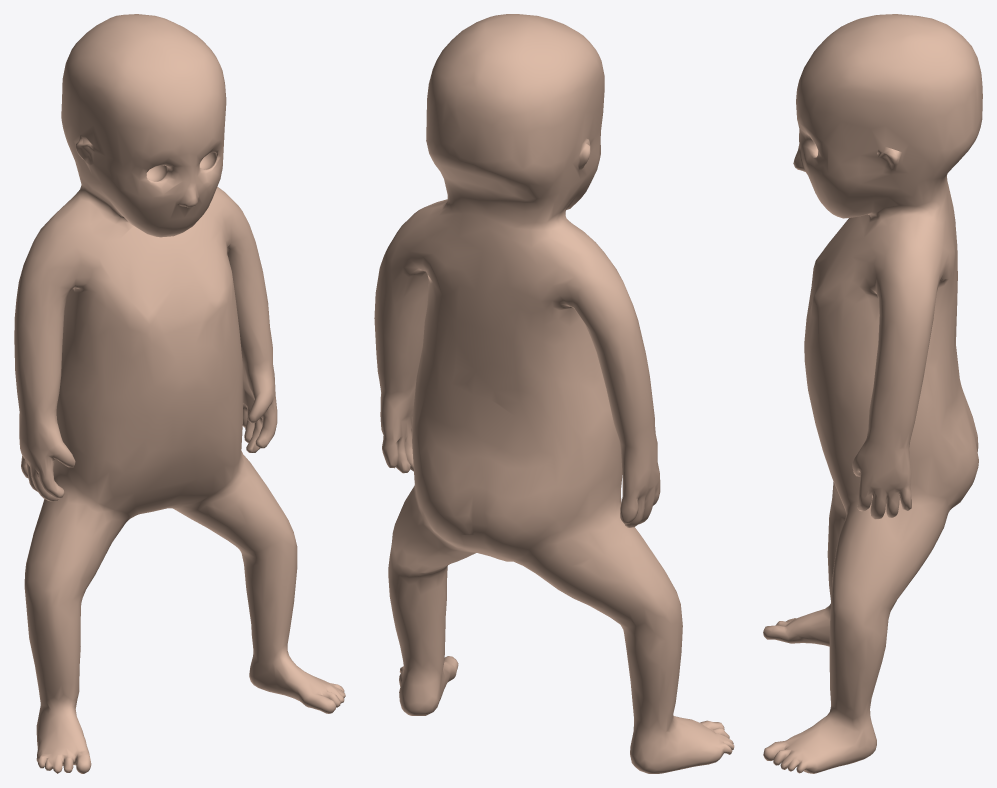
File: pediatric_neonate_female.surface.LOD2.glb
3 views of the same model, side by side, from view 1: azimuth 30°, elevation 25°; view 2: azimuth 150°, elevation 25°; view 3: azimuth 270°, elevation 25° (orthographic). The views are drawn at different scales.
Parts seen in each view (by area): view 1: PEDIATRIC.NEONATE.FEMALE.SURFACE.SKIN; view 2: PEDIATRIC.NEONATE.FEMALE.SURFACE.SKIN; view 3: PEDIATRIC.NEONATE.FEMALE.SURFACE.SKIN.
Part boxes in pixels (x1,y1,x2,y2): PEDIATRIC.NEONATE.FEMALE.SURFACE.SKIN: (14, 14, 345, 773); PEDIATRIC.NEONATE.FEMALE.SURFACE.SKIN: (374, 14, 734, 773); PEDIATRIC.NEONATE.FEMALE.SURFACE.SKIN: (763, 14, 982, 773).
Size of the model in its own units: 0.2276 by 0.4818 by 0.1405.
